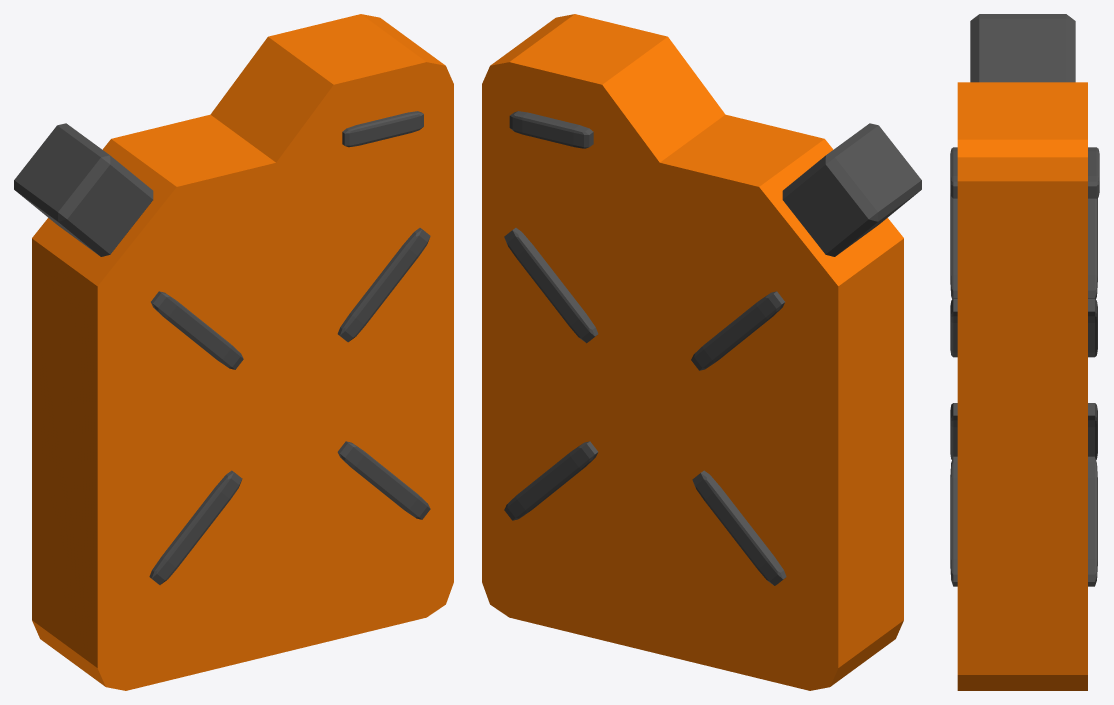
Rendered from Fuel.fbx.
3 views of the same model, side by side, from view 1: azimuth 30°, elevation 25°; view 2: azimuth 150°, elevation 25°; view 3: azimuth 270°, elevation 25° (orthographic).
Parts seen in each view (by area): view 1: Cube, Cube.001, Cube.007, Cube.006, Cube.005, Cube.004, Cube.002; view 2: Cube, Cube.001, Cube.010, Cube.011, Cube.008, Cube.009, Cube.003; view 3: Cube, Cube.001, Cube.009, Cube.005, Cube.008, Cube.004, Cube.003, Cube.010, Cube.011, Cube.006, Cube.007, Cube.002.
Part boxes in pixels (x1,y1,x2,y2): Cube: [32, 14, 453, 690]; Cube.001: [14, 123, 153, 256]; Cube.007: [149, 470, 242, 584]; Cube.006: [337, 228, 430, 342]; Cube.005: [337, 441, 430, 519]; Cube.004: [151, 291, 243, 369]; Cube.002: [342, 111, 423, 147]; Cube: [482, 14, 903, 690]; Cube.001: [782, 123, 921, 256]; Cube.010: [504, 228, 598, 343]; Cube.011: [692, 470, 786, 585]; Cube.008: [691, 291, 784, 370]; Cube.009: [504, 441, 598, 520]; Cube.003: [509, 111, 593, 148]; Cube: [957, 82, 1087, 690]; Cube.001: [970, 14, 1075, 82]; Cube.009: [1088, 456, 1097, 586]; Cube.005: [950, 456, 957, 586]; Cube.008: [1088, 198, 1097, 299]; Cube.004: [950, 193, 957, 299]; Cube.003: [1088, 147, 1099, 198]; Cube.010: [1088, 298, 1097, 357]; Cube.011: [1088, 403, 1097, 459]; Cube.006: [950, 298, 957, 357]; Cube.007: [950, 403, 957, 459]; Cube.002: [950, 147, 957, 198].
Bounding box in the file's own units: 216 × 298 × 73.36.
